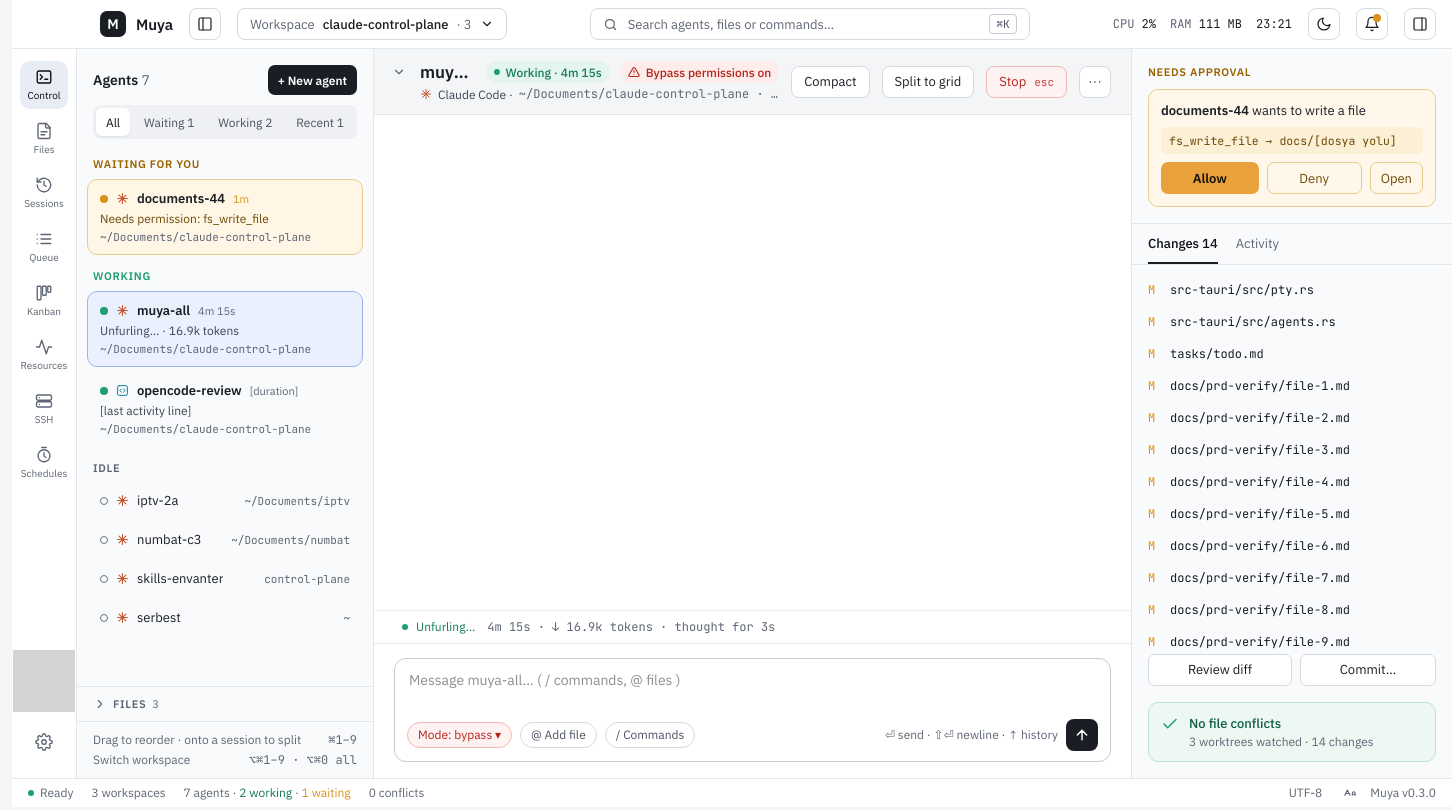
Scenario: panel toggles › hide/show exactly their own panel and persist
Expected: the element labelled "Agents" is shown, [77,49,374,778]
Click the button named "Hide agents panel". click: (205, 24)
box: [189,8,221,40]
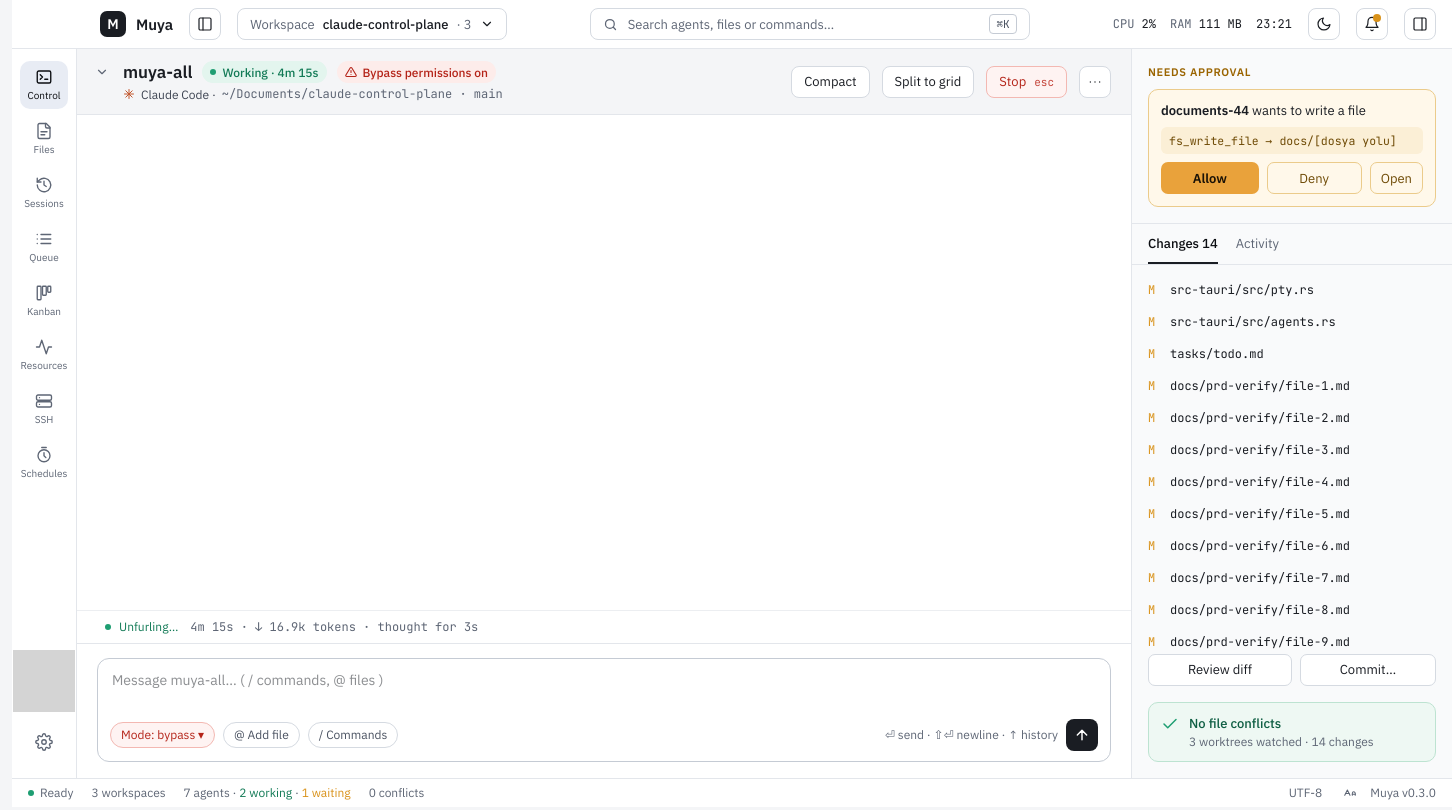
Expected: the element named "Inspector" is shown, [1131,49,1451,778]
Click the button named "Hide inspector". click: (1420, 24)
box: [1404,8,1436,40]
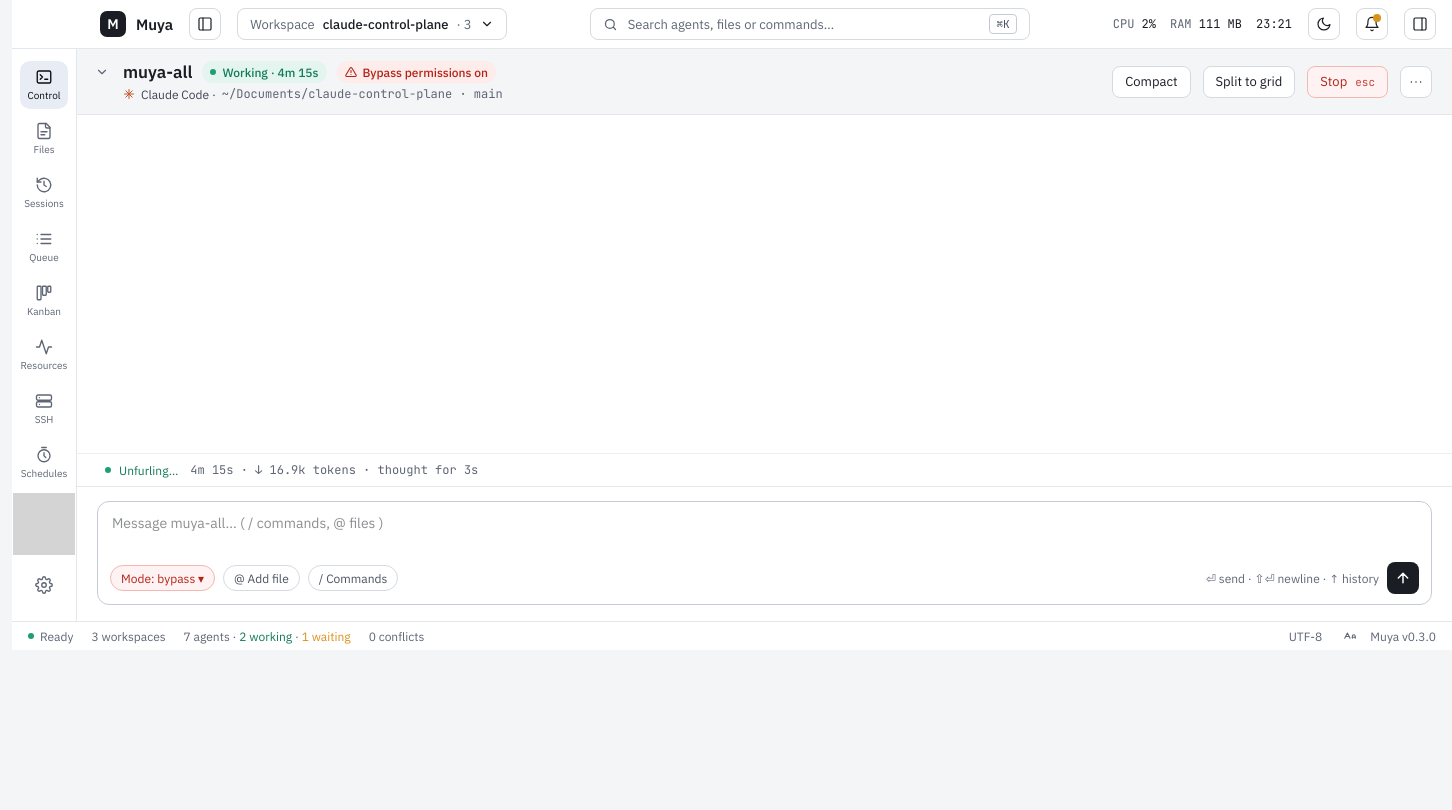
Now the field labelled "Inspector" is gone
